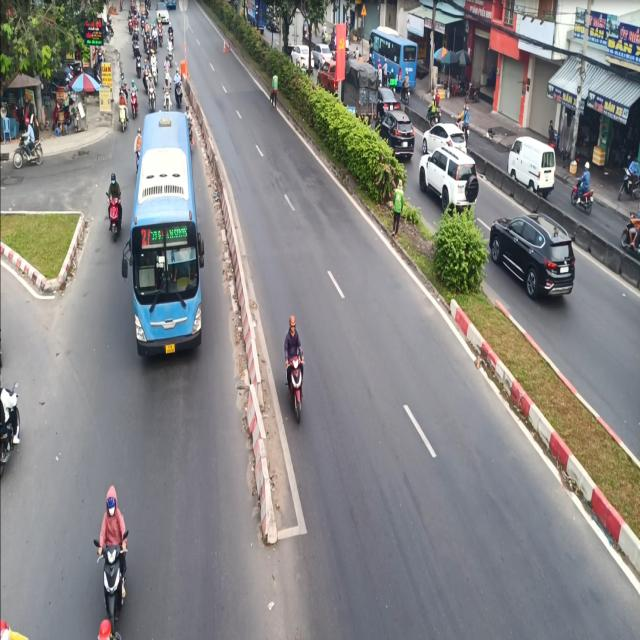bus: (122, 113, 206, 366)
motor: (96, 476, 128, 626), (277, 313, 312, 425), (105, 168, 123, 244)
